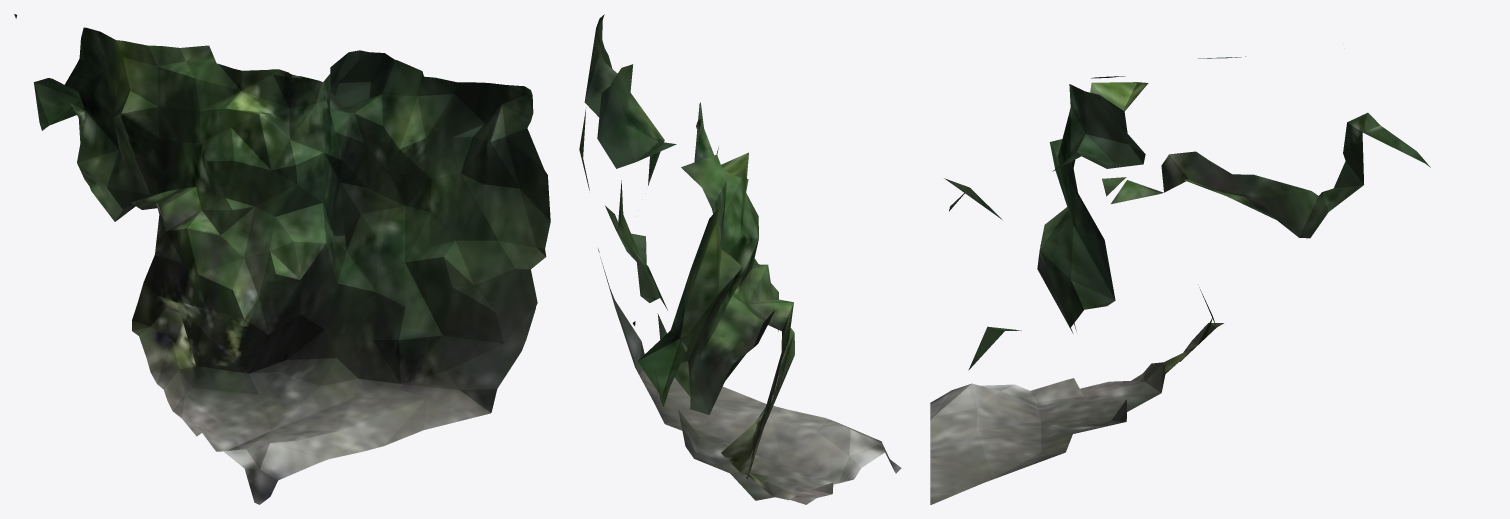
3 views of the same model, side by side, from view 1: azimuth 30°, elevation 25°; view 2: azimuth 150°, elevation 25°; view 3: azimuth 270°, elevation 25° (orthographic). The views are drawn at different scales.
Size of the model in its own units: 8.59 by 9.88 by 12.55.
Materials: 1 (1 with a texture image).
